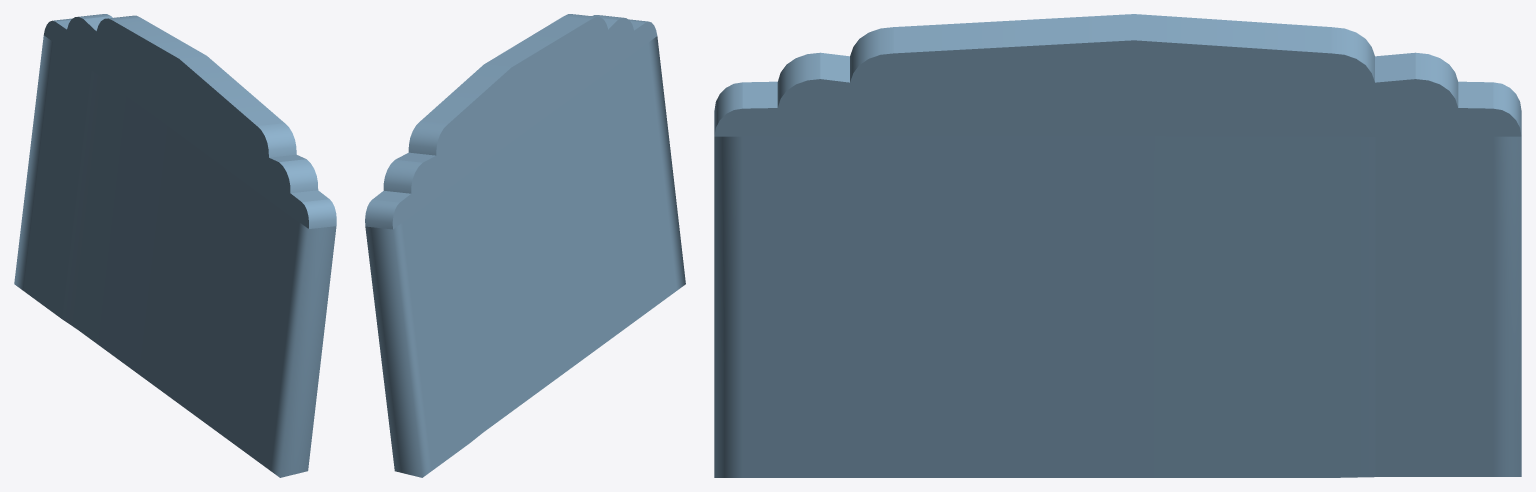
Rendered from Sofa_Back_Small.fbx.
3 views of the same model, side by side, from view 1: azimuth 30°, elevation 25°; view 2: azimuth 150°, elevation 25°; view 3: azimuth 270°, elevation 25° (orthographic). The views are drawn at different scales.
Visible parts, largest first — view 1: Sofa_Back_Small; view 2: Sofa_Back_Small; view 3: Sofa_Back_Small.
Part boxes in pixels (<box>): Sofa_Back_Small: <box>14,14,336,477</box>; Sofa_Back_Small: <box>365,14,685,477</box>; Sofa_Back_Small: <box>714,14,1521,477</box>.
Bounding box in the file's own units: 20.23 × 91.11 × 142.
